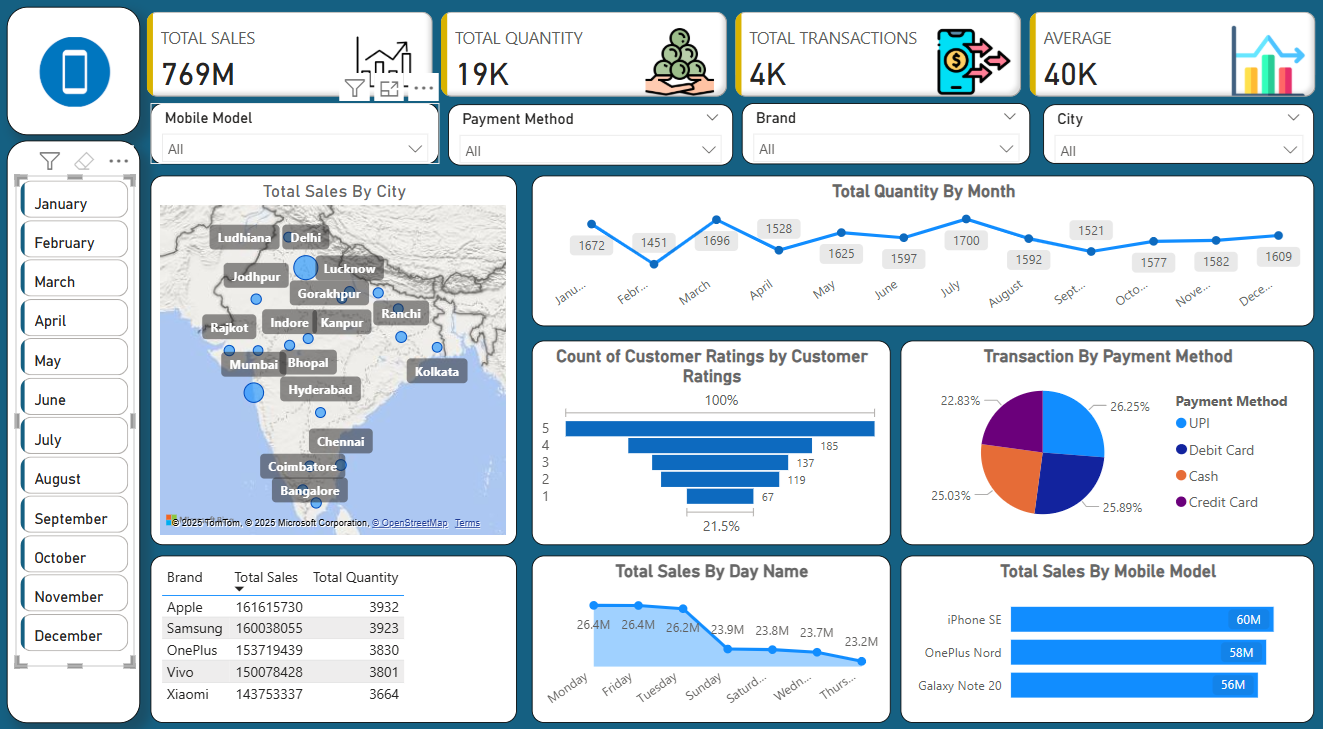

What the dashboard file says about the page in this screenshot:
{"tool":"powerbi","page":{"name":"Page 1","canvas":[1280,720],"ordinal":0},"visuals":[{"type":"shape","box":[8.4,18.1,129.1,124.3],"z":0},{"type":"shape","box":[8.4,147.2,129.1,562.2],"z":1000},{"type":"image","box":[615.3,220.8,102.5,97.7],"z":2000},{"type":"advancedSlicerVisual","fields":{"Values":["Sheet1.Date.Variation.Date Hierarchy.Month"]},"box":[16.9,181,114.6,474.1],"z":3000},{"type":"cardVisual","fields":{"Data":["sales_data.TOTAL SALESS","sales_data.TOTA QUANTITY","sales_data.TOTAL TRANSACTIONS","sales_data.AVERAGE"]},"box":[138.7,18.1,1141.3,92.9],"z":4000},{"type":"map","title":"Total Sales By City","fields":{"Category":["sales_data.City"],"Size":["sales_data.TOTAL SALESS"]},"box":[147.2,181,353.5,357.1],"z":5000},{"type":"lineChart","title":"Total Quantity By Month","fields":{"Category":["sales_data.Date.Variation.Date Hierarchy.Month","sales_data.Date.Variation.Date Hierarchy.Day","sales_data.Date.Variation.Date Hierarchy.Day"],"Y":["sales_data.TOTA QUANTITY"]},"box":[515.2,181,755.2,146],"z":6000},{"type":"clusteredBarChart","title":"Total Sales By Mobile Model","fields":{"Category":["sales_data.Mobile Model"],"Y":["sales_data.TOTAL SALESS"]},"box":[871.1,547.7,399.3,161.7],"z":7000},{"type":"pieChart","title":"Transaction By Payment Method","fields":{"Category":["sales_data.Payment Method"],"Y":["sales_data.TOTAL TRANSACTIONS"]},"box":[871.1,340.2,399.3,197.9],"z":8000},{"type":"funnel","fields":{"Category":["sales_data.Customer Ratings"],"Y":["CountNonNull(sales_data.Customer Ratings)"]},"box":[515.2,340.2,346.2,197.9],"z":9000},{"type":"areaChart","title":"Total Sales By Day Name","fields":{"Category":["sales_data.Day Name"],"Y":["sales_data.TOTAL SALESS"]},"box":[515.2,547.7,346.2,161.7],"z":10000},{"type":"tableEx","fields":{"Values":["sales_data.Brand","sales_data.TOTAL SALESS","sales_data.TOTA QUANTITY"]},"box":[147.2,547.7,353.5,161.7],"z":11000},{"type":"slicer","fields":{"Values":["sales_data.Mobile Model"]},"box":[147.2,111,278.7,59.1],"z":12000},{"type":"slicer","fields":{"Values":["sales_data.Payment Method"]},"box":[434.3,112.2,275.1,59.1],"z":13000},{"type":"slicer","fields":{"Values":["sales_data.Brand"]},"box":[717.8,111,278.7,59.1],"z":14000},{"type":"slicer","fields":{"Values":["sales_data.City"]},"box":[1008.6,112.2,261.8,57.9],"z":15000},{"type":"image","box":[32.6,31.4,83.2,98.9],"z":15001}]}

Visuals, with their boxes in screenshot pixels (x1, y1, x2, y2), scaled from the page's 1280x720 canvas onto the 1323x729 screenshot:
shape: {"x1": 9, "y1": 18, "x2": 142, "y2": 144}
shape: {"x1": 9, "y1": 149, "x2": 142, "y2": 718}
image: {"x1": 636, "y1": 224, "x2": 742, "y2": 322}
advancedSlicerVisual - Sheet1.Date.Variation.Date Hierarchy.Month: {"x1": 17, "y1": 183, "x2": 136, "y2": 663}
cardVisual - sales_data.TOTAL SALESS x sales_data.TOTA QUANTITY: {"x1": 143, "y1": 18, "x2": 1322, "y2": 112}
"Total Sales By City" map: {"x1": 152, "y1": 183, "x2": 518, "y2": 545}
"Total Quantity By Month" lineChart: {"x1": 533, "y1": 183, "x2": 1313, "y2": 331}
"Total Sales By Mobile Model" clusteredBarChart: {"x1": 900, "y1": 555, "x2": 1313, "y2": 718}
"Transaction By Payment Method" pieChart: {"x1": 900, "y1": 344, "x2": 1313, "y2": 545}
funnel - sales_data.Customer Ratings x CountNonNull(sales_data.Customer Ratings): {"x1": 533, "y1": 344, "x2": 890, "y2": 545}
"Total Sales By Day Name" areaChart: {"x1": 533, "y1": 555, "x2": 890, "y2": 718}
tableEx - sales_data.Brand x sales_data.TOTAL SALESS: {"x1": 152, "y1": 555, "x2": 518, "y2": 718}
slicer - sales_data.Mobile Model: {"x1": 152, "y1": 112, "x2": 440, "y2": 172}
slicer - sales_data.Payment Method: {"x1": 449, "y1": 114, "x2": 733, "y2": 173}
slicer - sales_data.Brand: {"x1": 742, "y1": 112, "x2": 1030, "y2": 172}
slicer - sales_data.City: {"x1": 1042, "y1": 114, "x2": 1313, "y2": 172}
image: {"x1": 34, "y1": 32, "x2": 120, "y2": 132}
